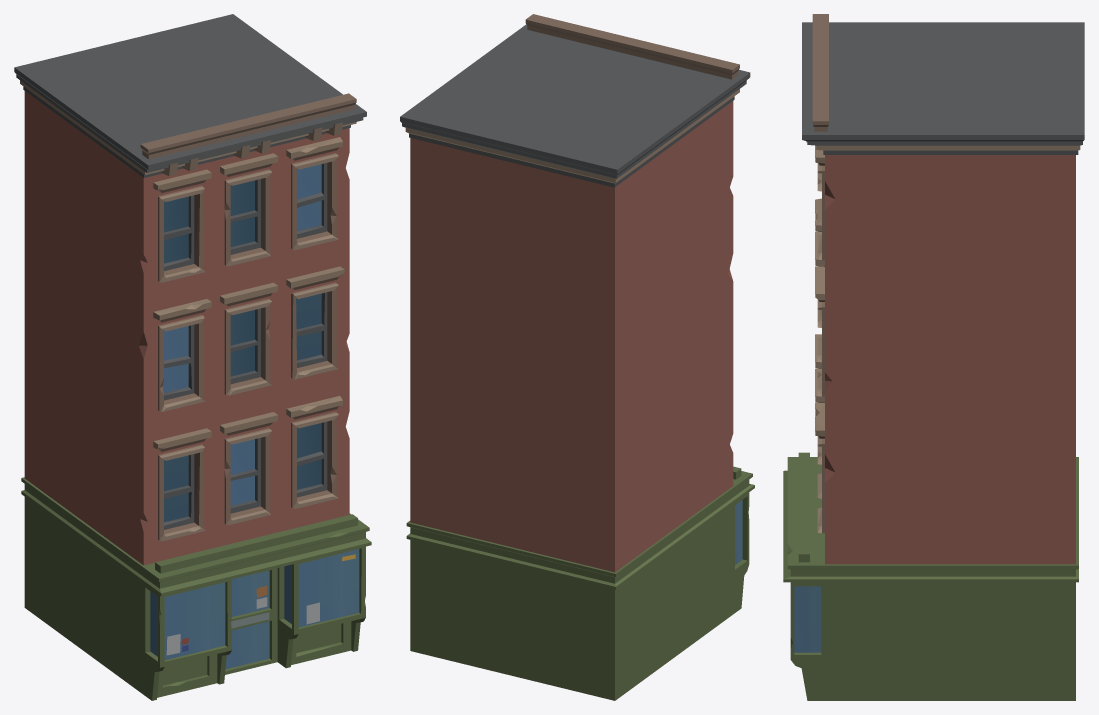
Rendered from v3-buildings-SM3D_Bld_Mixed_4fl_2.glb.
3 renders of one model, left to right at view 1: azimuth 30°, elevation 25°; view 2: azimuth 150°, elevation 25°; view 3: azimuth 270°, elevation 25°, orthographic. The views are drawn at different scales.
Visible parts, largest first — view 1: SM3D_Bld_Mixed_4fl_2; view 2: SM3D_Bld_Mixed_4fl_2; view 3: SM3D_Bld_Mixed_4fl_2.
Boxes of the visible parts, x1,y1,x2,y2 form: SM3D_Bld_Mixed_4fl_2: (14, 14, 371, 700); SM3D_Bld_Mixed_4fl_2: (400, 14, 754, 700); SM3D_Bld_Mixed_4fl_2: (783, 14, 1084, 700).
Bounding box in the file's own units: 5.31 × 12.74 × 5.99.
1 material, 1 textured.
